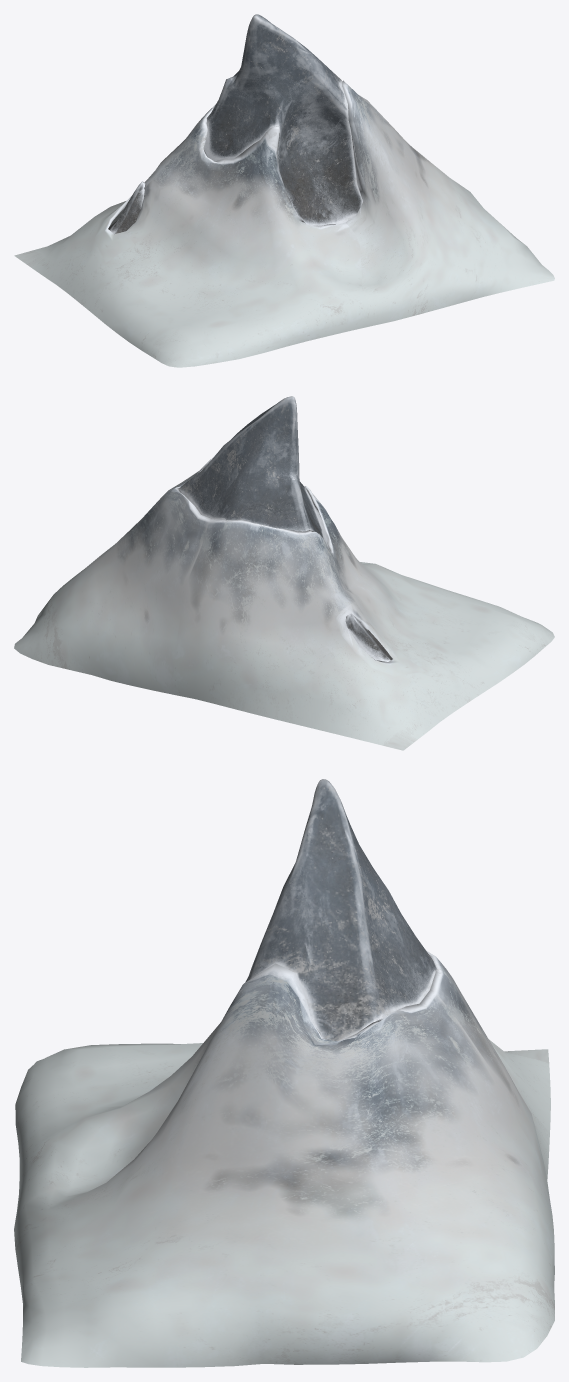
Rendered from Mountain 2.fbx.
3 renders of one model, top to bottom at view 1: azimuth 30°, elevation 25°; view 2: azimuth 150°, elevation 25°; view 3: azimuth 270°, elevation 25°, orthographic. The views are drawn at different scales.
Visible parts, largest first — view 1: Mntn2 snow, mountain 2; view 2: Mntn2 snow, mountain 2; view 3: Mntn2 snow, mountain 2.
Boxes of the visible parts, x1,y1,x2,y2 form: Mntn2 snow: (14,80,554,367); mountain 2: (108,14,363,234); Mntn2 snow: (14,452,554,750); mountain 2: (178,396,392,661); Mntn2 snow: (14,951,554,1367); mountain 2: (247,779,436,1041).
Size of the model in its own units: 158 by 97.82 by 115.
